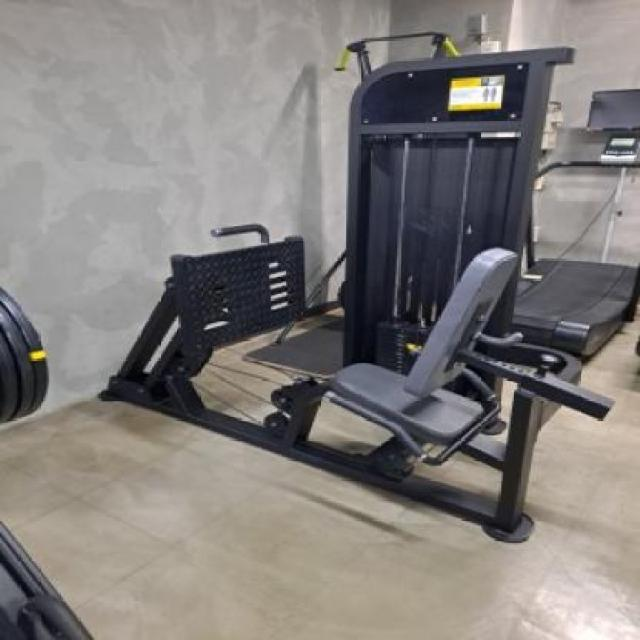leg press: (78, 29, 640, 537)
